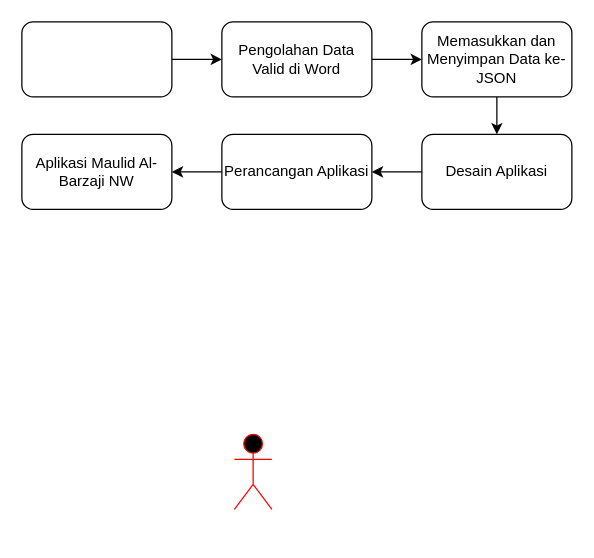
This 594x558 diagram has some shape labels left out. The centre of each missing label's shape, as x and y in pixels:
Actor: (252,471)
Pengumpulan Data: (96,59)
